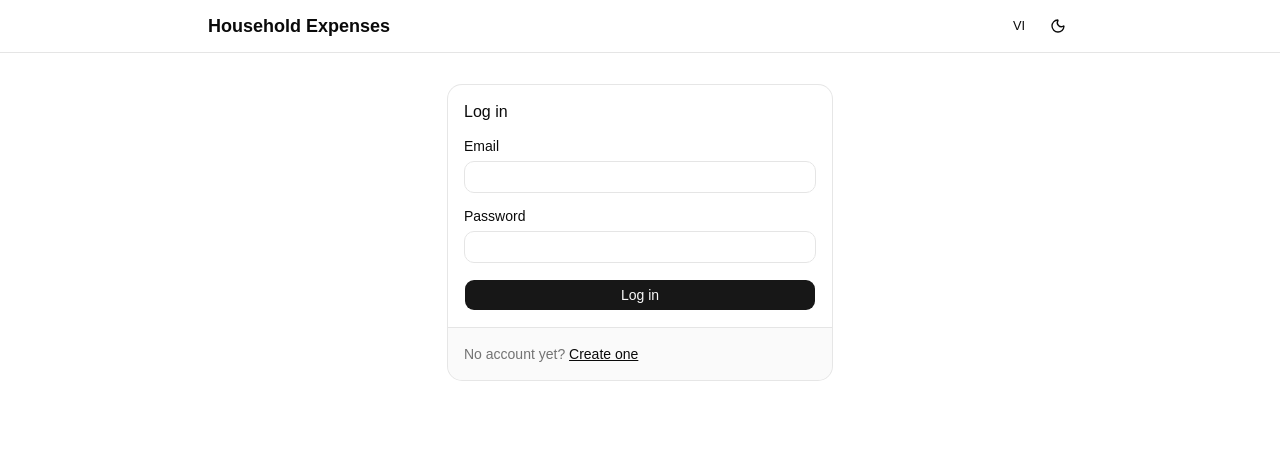
Test: language switch › translates a validation error already on screen
The width and height of the screenshot is (1280, 454).
Click the button "Log in".
click(640, 295)  # box [464, 279, 816, 311]
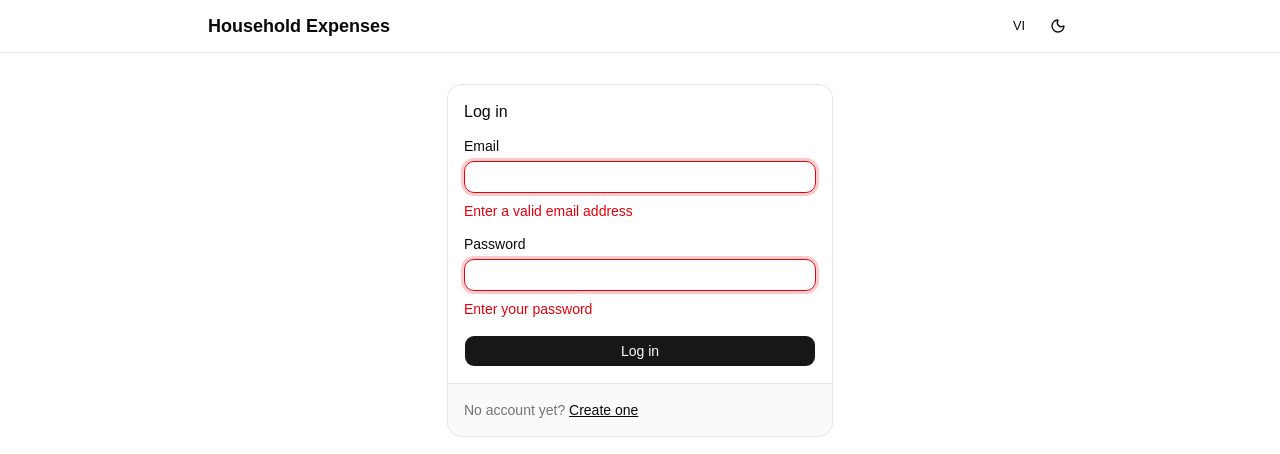
Expected: the text "Enter a valid email address" is shown, [464, 203, 633, 219]
Click the button with aria-label "VI, Tiếng Việt".
click(1019, 26)  # box [1002, 12, 1036, 40]
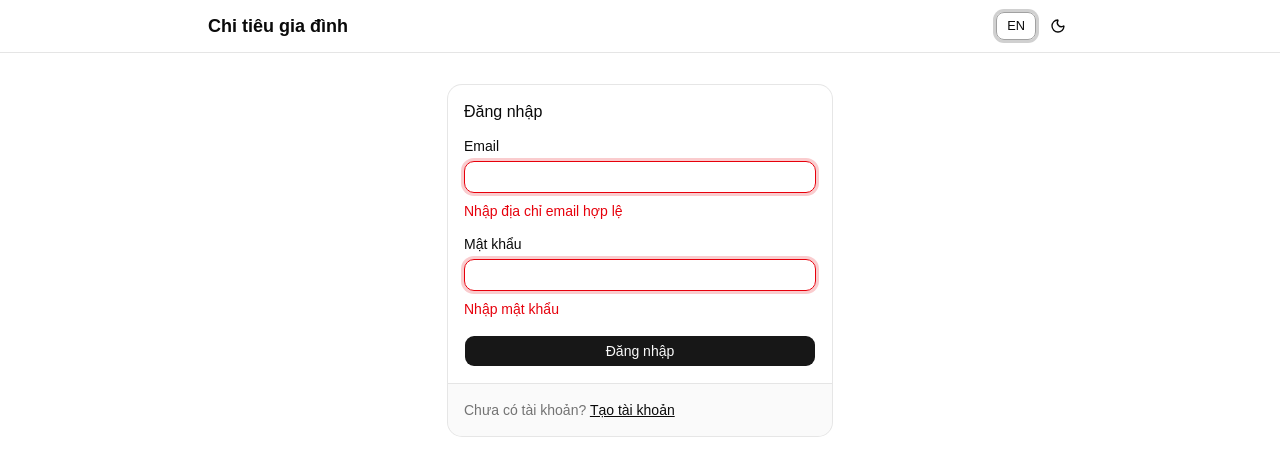
Expected: the text "Nhập địa chỉ email hợp lệ" is shown, [464, 203, 623, 219]
Expected: the text "Nhập mật khẩu" is shown, [464, 301, 559, 317]
